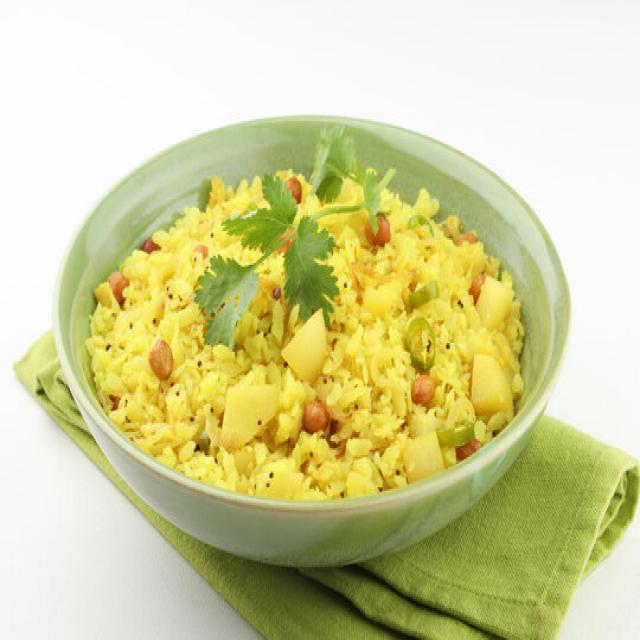UPMA: (83, 153, 524, 492)
